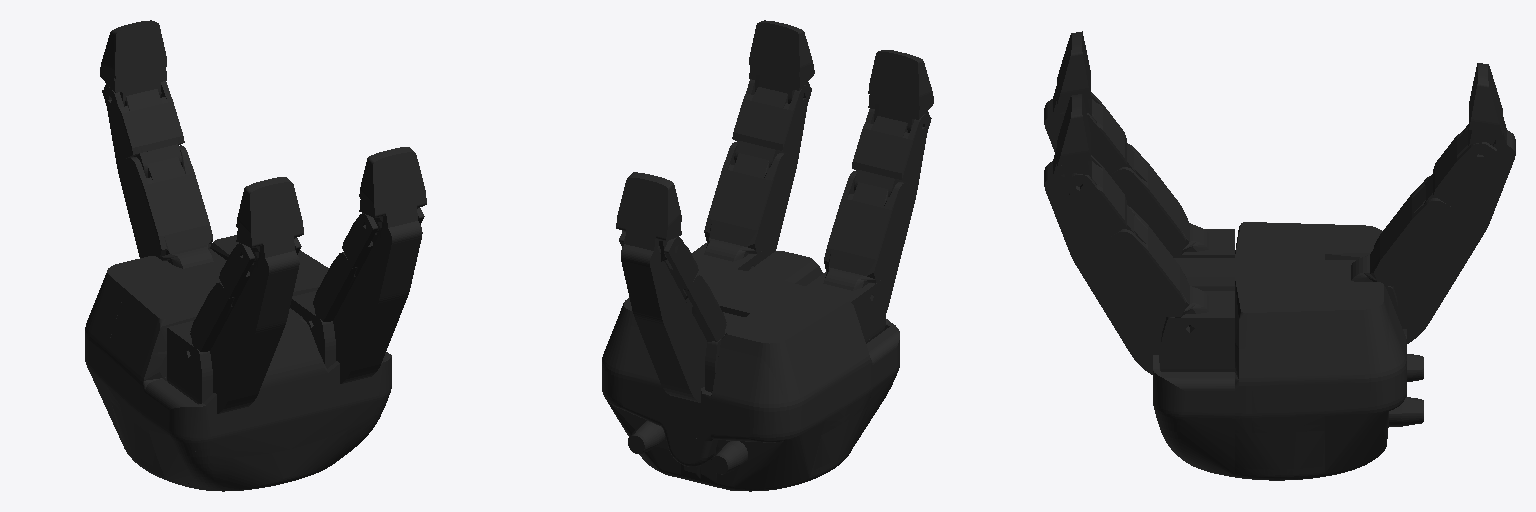
The robot description file, URDF, robot "victor":
<?xml version="1.0" ?>
<!-- =================================================================================== -->
<!-- |    This document was autogenerated by xacro from [local-path]/grasping_ws/src/robotiq_3finger_description/urdf/robotiq_3finger_description.urdf.xacro | -->
<!-- |    EDITING THIS FILE BY HAND IS NOT RECOMMENDED                                 | -->
<!-- =================================================================================== -->
<robot name="victor" xmlns:xacro="http://www.ros.org/wiki/xacro">
  <material name="Black">
    <color rgba="0.0 0.0 0.0 1.0"/>
  </material>
  <material name="Blue">
    <color rgba="0.0 0.0 0.8 1.0"/>
  </material>
  <material name="Green">
    <color rgba="0.0 0.8 0.0 1.0"/>
  </material>
  <material name="Grey">
    <color rgba="0.4 0.4 0.4 1.0"/>
  </material>
  <material name="Orange">
    <color rgba="1.0 0.423529411765 0.0392156862745 1.0"/>
  </material>
  <material name="Brown">
    <color rgba="0.870588235294 0.811764705882 0.764705882353 1.0"/>
  </material>
  <material name="Red">
    <color rgba="0.8 0.0 0.0 1.0"/>
  </material>
  <material name="White">
    <color rgba="1.0 1.0 1.0 1.0"/>
  </material>
  <material name="LightGrey">
    <color rgba="0.7 0.7 0.7 1"/>
  </material>
  <material name="DarkGray">
    <color rgba="0.2 0.2 0.2 1"/>
  </material>
  <material name="DarkDarkGray">
    <color rgba="0.1 0.1 0.1 1"/>
  </material>

  <link name="world"/>
  <joint name="world_to_palm" type="fixed">
    <origin rpy="0 0 1.5707963267948966" xyz="0 0 -0.09"/>
    <parent link="world"/>
    <child link="gripper_palm"/>
  </joint>
  <link name="gripper_palm">
    <inertial>
      <origin rpy="0 0 0" xyz="0 0 0"/>
      <mass value="1"/>
      <inertia ixx="0.01" ixy="0" ixz="0" iyy="0.01" iyz="0" izz="0.01"/>
    </inertial>
    <visual>
      <origin rpy="0 0 0" xyz="0 0 0"/>
      <geometry>
        <mesh filename="../meshes/robotiq_3finger/palm_visual.obj"/>
      </geometry>
      <material name="DarkGray"/>
    </visual>
    <collision>
      <origin rpy="0 0 0" xyz="0 0 0"/>
      <geometry>
        <mesh filename="../meshes/robotiq_3finger/palm_collision.obj"/>
      </geometry>
      <material name="DarkGray"/>
    </collision>
  </link>
  <!-- Palm surface aligned with the gripper axis -->
  <joint name="gripper_palm_surface_joint" type="fixed">
    <parent link="gripper_palm"/>
    <child link="gripper_palm_surface"/>
    <origin rpy="0 0 0" xyz="0 0 0.092075"/>
  </joint>
  <link name="gripper_palm_surface">
        </link>
  <!-- Kuka internal frame has been changed to match our external usage, so identity transform -->
  <joint name="gripper_palm_surface_kuka_joint" type="fixed">
    <parent link="gripper_palm_surface"/>
    <child link="gripper_palm_surface_kuka"/>
    <origin rpy="0 0 0" xyz="0 0 0"/>
  </joint>
  <link name="gripper_palm_surface_kuka">
        </link>
  <!-- Finger A -->
  <joint name="gripper_fingerA_knuckle" type="fixed">
    <origin rpy="0 0 0" xyz="0.02225040 0 0.06111875"/>
    <parent link="gripper_palm"/>
    <child link="gripper_fingerA_base"/>
  </joint>
  <link name="gripper_fingerA_base">
    <inertial>
      <origin rpy="0 0 0" xyz="0 0 0"/>
      <mass value="1"/>
      <inertia ixx="0.01" ixy="0" ixz="0" iyy="0.01" iyz="0" izz="0.01"/>
    </inertial>
    <visual>
      <origin rpy="0 0 0" xyz="0 0 0"/>
      <geometry>
        <mesh filename="../meshes/robotiq_3finger/finger_link1_base_visual.obj"/>
      </geometry>
      <material name="DarkGray"/>
    </visual>
    <collision>
      <origin rpy="0 0 0" xyz="0 0 0"/>
      <geometry>
        <mesh filename="../meshes/robotiq_3finger/finger_link1_base_visual.obj"/>
      </geometry>
      <material name="DarkGray"/>
    </collision>
  </link>
  <!-- Joint 2 (base-prox) -->
  <joint name="gripper_fingerA_joint_2" type="revolute">
    <parent link="gripper_fingerA_base"/>
    <child link="gripper_fingerA_prox"/>
    <origin rpy="0 0.610865238198 0" xyz="0.02225000 0 0.02151380"/>
    <axis xyz="0 1 0"/>
    <limit effort="300" lower="0" upper="1.2217304763960307" velocity="10"/>
    <safety_controller k_position="100" k_velocity="100" soft_lower_limit="-0.610865238198" soft_upper_limit="0.610865238198"/>
    <dynamics damping="0.5"/>
  </joint>
  <link name="gripper_fingerA_prox">
    <inertial>
      <origin rpy="0 0 0" xyz="0 0 0"/>
      <mass value="1"/>
      <inertia ixx="0.01" ixy="0" ixz="0" iyy="0.01" iyz="0" izz="0.01"/>
    </inertial>
    <visual>
      <origin rpy="0 0 0" xyz="0 0 0"/>
      <geometry>
        <mesh filename="../meshes/robotiq_3finger/finger_link2_prox_visual.obj"/>
      </geometry>
      <material name="DarkGray"/>
    </visual>
    <collision>
      <origin rpy="0 0 0" xyz="0 0 0"/>
      <geometry>
        <mesh filename="../meshes/robotiq_3finger/finger_link2_prox_collision.obj"/>
      </geometry>
      <material name="DarkGray"/>
    </collision>
  </link>
  <!-- Joint 3 (prox-med) -->
  <joint name="gripper_fingerA_joint_3" type="revolute">
    <parent link="gripper_fingerA_prox"/>
    <child link="gripper_fingerA_med"/>
    <origin rpy="0 0 0" xyz="0 0 0.05715000"/>
    <axis xyz="0 1 0"/>
    <limit effort="300" lower="-1" upper="1" velocity="10"/>
    <safety_controller k_position="100" k_velocity="100" soft_lower_limit="0.0" soft_upper_limit="1.57079632679"/>
    <dynamics damping="0.5"/>
  </joint>
  <link name="gripper_fingerA_med">
    <inertial>
      <origin rpy="0 0 0" xyz="0 0 0"/>
      <mass value="1"/>
      <inertia ixx="0.01" ixy="0" ixz="0" iyy="0.01" iyz="0" izz="0.01"/>
    </inertial>
    <visual>
      <origin rpy="0 0 0" xyz="0 0 0"/>
      <geometry>
        <mesh filename="../meshes/robotiq_3finger/finger_link3_med_visual.obj"/>
      </geometry>
      <material name="DarkGray"/>
    </visual>
    <collision>
      <origin rpy="0 0 0" xyz="0 0 0"/>
      <geometry>
        <mesh filename="../meshes/robotiq_3finger/finger_link3_med_collision.obj"/>
      </geometry>
      <material name="DarkGray"/>
    </collision>
  </link>
  <!-- Joint 4 (med-dist) -->
  <joint name="gripper_fingerA_joint_4" type="revolute">
    <parent link="gripper_fingerA_med"/>
    <child link="gripper_fingerA_dist"/>
    <origin rpy="0 -0.436332312999 0" xyz="0 0 0.03810000"/>
    <axis xyz="0 1 0"/>
    <limit effort="300" lower="-1" upper="1" velocity="10"/>
    <safety_controller k_position="100" k_velocity="100" soft_lower_limit="-0.436332312999" soft_upper_limit="1.27409035396"/>
    <dynamics damping="0.5"/>
  </joint>
  <link name="gripper_fingerA_dist">
    <inertial>
      <origin rpy="0 0 0" xyz="0 0 0"/>
      <mass value="1"/>
      <inertia ixx="0.01" ixy="0" ixz="0" iyy="0.01" iyz="0" izz="0.01"/>
    </inertial>
    <visual>
      <origin rpy="0 0 0" xyz="0 0 0"/>
      <!-- <origin rpy="0 0 0" xyz="0.007 0.0 0.024"/> -->
      <geometry>
        <mesh filename="../meshes/robotiq_3finger/finger_link4_dist_visual.obj"/>
        <!-- <sphere radius="0.015"/> -->
      </geometry>
      <material name="DarkGray"/>
    </visual>
    <collision>
      <origin rpy="0 0 0" xyz="0 0 0"/>
      <!-- <origin rpy="0 0 0" xyz="0.007 0.0 0.024"/> -->
      <geometry>
        <mesh filename="../meshes/robotiq_3finger/finger_link4_dist_collision.obj"/>
        <!-- <sphere radius="0.015"/> -->
      </geometry>
      <material name="DarkGray"/>
    </collision>
  </link>

  <link name="fingerA_tip"/>
  <joint name="fingerA_dist_to_tip" type="fixed">
    <origin rpy="0 0 0" xyz="-0.0037 0.0 0.038"/>
    <parent link="gripper_fingerA_dist"/>
    <child link="fingerA_tip"/>
  </joint>
  
  <!-- Finger B -->
  <joint name="gripper_fingerB_knuckle" type="revolute">
    <origin rpy="0 0 3.14159265359" xyz="-0.02230120 0.03651250 0.06111875"/>
    <parent link="gripper_palm"/>
    <child link="gripper_fingerB_base"/>
    <axis xyz="1 0 0"/>
    <limit effort="300" lower="-0.279252680319" upper="0.174532925199" velocity="10"/>
    <safety_controller k_position="100" k_velocity="100" soft_lower_limit="-0.244346095279" soft_upper_limit="0.13962634016"/>
    <dynamics damping="0.5"/>
  </joint>
  <link name="gripper_fingerB_base">
    <inertial>
      <origin rpy="0 0 0" xyz="0 0 0"/>
      <mass value="1"/>
      <inertia ixx="0.01" ixy="0" ixz="0" iyy="0.01" iyz="0" izz="0.01"/>
    </inertial>
    <visual>
      <origin rpy="0 0 0" xyz="0 0 0"/>
      <geometry>
        <mesh filename="../meshes/robotiq_3finger/finger_link1_base_visual.obj"/>
      </geometry>
      <material name="DarkGray"/>
    </visual>
    <collision>
      <origin rpy="0 0 0" xyz="0 0 0"/>
      <geometry>
        <mesh filename="../meshes/robotiq_3finger/finger_link1_base_visual.obj"/>
      </geometry>
      <material name="DarkGray"/>
    </collision>
  </link>
  <!-- Joint 2 (base-prox) -->
  <joint name="gripper_fingerB_joint_2" type="revolute">
    <parent link="gripper_fingerB_base"/>
    <child link="gripper_fingerB_prox"/>
    <origin rpy="0 0.610865238198 0" xyz="0.02225000 0 0.02151380"/>
    <axis xyz="0 1 0"/>
    <limit effort="300" lower="0" upper="1.2217304763960307" velocity="10"/>
    <safety_controller k_position="100" k_velocity="100" soft_lower_limit="-0.610865238198" soft_upper_limit="0.610865238198"/>
    <dynamics damping="0.5"/>
  </joint>
  <link name="gripper_fingerB_prox">
    <inertial>
      <origin rpy="0 0 0" xyz="0 0 0"/>
      <mass value="1"/>
      <inertia ixx="0.01" ixy="0" ixz="0" iyy="0.01" iyz="0" izz="0.01"/>
    </inertial>
    <visual>
      <origin rpy="0 0 0" xyz="0 0 0"/>
      <geometry>
        <mesh filename="../meshes/robotiq_3finger/finger_link2_prox_visual.obj"/>
      </geometry>
      <material name="DarkGray"/>
    </visual>
    <collision>
      <origin rpy="0 0 0" xyz="0 0 0"/>
      <geometry>
        <mesh filename="../meshes/robotiq_3finger/finger_link2_prox_collision.obj"/>
      </geometry>
      <material name="DarkGray"/>
    </collision>
  </link>
  <!-- Joint 3 (prox-med) -->
  <joint name="gripper_fingerB_joint_3" type="revolute">
    <parent link="gripper_fingerB_prox"/>
    <child link="gripper_fingerB_med"/>
    <origin rpy="0 0 0" xyz="0 0 0.05715000"/>
    <axis xyz="0 1 0"/>
    <limit effort="300" lower="-1" upper="1" velocity="10"/>
    <safety_controller k_position="100" k_velocity="100" soft_lower_limit="0.0" soft_upper_limit="1.57079632679"/>
    <dynamics damping="0.5"/>
  </joint>
  <link name="gripper_fingerB_med">
    <inertial>
      <origin rpy="0 0 0" xyz="0 0 0"/>
      <mass value="1"/>
      <inertia ixx="0.01" ixy="0" ixz="0" iyy="0.01" iyz="0" izz="0.01"/>
    </inertial>
    <visual>
      <origin rpy="0 0 0" xyz="0 0 0"/>
      <geometry>
        <mesh filename="../meshes/robotiq_3finger/finger_link3_med_visual.obj"/>
      </geometry>
      <material name="DarkGray"/>
    </visual>
    <collision>
      <origin rpy="0 0 0" xyz="0 0 0"/>
      <geometry>
        <mesh filename="../meshes/robotiq_3finger/finger_link3_med_collision.obj"/>
      </geometry>
      <material name="DarkGray"/>
    </collision>
  </link>
  <!-- Joint 4 (med-dist) -->
  <joint name="gripper_fingerB_joint_4" type="revolute">
    <parent link="gripper_fingerB_med"/>
    <child link="gripper_fingerB_dist"/>
    <origin rpy="0 -0.436332312999 0" xyz="0 0 0.03810000"/>
    <axis xyz="0 1 0"/>
    <limit effort="300" lower="-1" upper="1" velocity="10"/>
    <safety_controller k_position="100" k_velocity="100" soft_lower_limit="-0.436332312999" soft_upper_limit="1.27409035396"/>
    <dynamics damping="0.5"/>
  </joint>
  <link name="gripper_fingerB_dist">
    <inertial>
      <origin rpy="0 0 0" xyz="0 0 0"/>
      <mass value="1"/>
      <inertia ixx="0.01" ixy="0" ixz="0" iyy="0.01" iyz="0" izz="0.01"/>
    </inertial>
    <visual>
      <origin rpy="0 0 0" xyz="0 0 0"/>
      <!-- <origin rpy="0 0 0" xyz="0.007 0.0 0.024"/> -->
      <geometry>
        <mesh filename="../meshes/robotiq_3finger/finger_link4_dist_visual.obj"/>
        <!-- <sphere radius="0.015"/> -->
      </geometry>
      <material name="DarkGray"/>
    </visual>
    <collision>
      <origin rpy="0 0 0" xyz="0 0 0"/>
      <!-- <origin rpy="0 0 0" xyz="0.007 0.0 0.024"/> -->
      <geometry>
        <mesh filename="../meshes/robotiq_3finger/finger_link4_dist_collision.obj"/>
        <!-- <sphere radius="0.015"/> -->
      </geometry>
      <material name="DarkGray"/>
    </collision>
  </link>
  <link name="fingerB_tip"/>
  <joint name="fingerB_dist_to_tip" type="fixed">
    <origin rpy="0 0 0" xyz="-0.0037 0.0 0.038"/>
    <parent link="gripper_fingerB_dist"/>
    <child link="fingerB_tip"/>
  </joint>
  <!-- Finger C -->
  <joint name="gripper_fingerC_knuckle" type="revolute">
    <origin rpy="0 0 3.14159265359" xyz="-0.02230120 -0.03651250 0.06111875"/>
    <parent link="gripper_palm"/>
    <child link="gripper_fingerC_base"/>
    <axis xyz="-1 0 0"/>
    <limit effort="300" lower="-0.279252680319" upper="0.174532925199" velocity="10"/>
    <safety_controller k_position="100" k_velocity="100" soft_lower_limit="-0.244346095279" soft_upper_limit="0.13962634016"/>
    <dynamics damping="0.5"/>
  </joint>
  <link name="gripper_fingerC_base">
    <inertial>
      <origin rpy="0 0 0" xyz="0 0 0"/>
      <mass value="1"/>
      <inertia ixx="0.01" ixy="0" ixz="0" iyy="0.01" iyz="0" izz="0.01"/>
    </inertial>
    <visual>
      <origin rpy="0 0 0" xyz="0 0 0"/>
      <geometry>
        <mesh filename="../meshes/robotiq_3finger/finger_link1_base_visual.obj"/>
      </geometry>
      <material name="DarkGray"/>
    </visual>
    <collision>
      <origin rpy="0 0 0" xyz="0 0 0"/>
      <geometry>
        <mesh filename="../meshes/robotiq_3finger/finger_link1_base_visual.obj"/>
      </geometry>
      <material name="DarkGray"/>
    </collision>
  </link>
  <!-- Joint 2 (base-prox) -->
  <joint name="gripper_fingerC_joint_2" type="revolute">
    <parent link="gripper_fingerC_base"/>
    <child link="gripper_fingerC_prox"/>
    <origin rpy="0 0.610865238198 0" xyz="0.02225000 0 0.02151380"/>
    <axis xyz="0 1 0"/>
    <limit effort="300" lower="0" upper="1.2217304763960307" velocity="10"/>
    <safety_controller k_position="100" k_velocity="100" soft_lower_limit="-0.610865238198" soft_upper_limit="0.610865238198"/>
    <dynamics damping="0.5"/>
  </joint>
  <link name="gripper_fingerC_prox">
    <inertial>
      <origin rpy="0 0 0" xyz="0 0 0"/>
      <mass value="1"/>
      <inertia ixx="0.01" ixy="0" ixz="0" iyy="0.01" iyz="0" izz="0.01"/>
    </inertial>
    <visual>
      <origin rpy="0 0 0" xyz="0 0 0"/>
      <geometry>
        <mesh filename="../meshes/robotiq_3finger/finger_link2_prox_visual.obj"/>
      </geometry>
      <material name="DarkGray"/>
    </visual>
    <collision>
      <origin rpy="0 0 0" xyz="0 0 0"/>
      <geometry>
        <mesh filename="../meshes/robotiq_3finger/finger_link2_prox_collision.obj"/>
      </geometry>
      <material name="DarkGray"/>
    </collision>
  </link>
  <!-- Joint 3 (prox-med) -->
  <joint name="gripper_fingerC_joint_3" type="revolute">
    <parent link="gripper_fingerC_prox"/>
    <child link="gripper_fingerC_med"/>
    <origin rpy="0 0 0" xyz="0 0 0.05715000"/>
    <axis xyz="0 1 0"/>
    <limit effort="300" lower="-1" upper="1" velocity="10"/>
    <safety_controller k_position="100" k_velocity="100" soft_lower_limit="0.0" soft_upper_limit="1.57079632679"/>
    <dynamics damping="0.5"/>
  </joint>
  <link name="gripper_fingerC_med">
    <inertial>
      <origin rpy="0 0 0" xyz="0 0 0"/>
      <mass value="1"/>
      <inertia ixx="0.01" ixy="0" ixz="0" iyy="0.01" iyz="0" izz="0.01"/>
    </inertial>
    <visual>
      <origin rpy="0 0 0" xyz="0 0 0"/>
      <geometry>
        <mesh filename="../meshes/robotiq_3finger/finger_link3_med_visual.obj"/>
      </geometry>
      <material name="DarkGray"/>
    </visual>
    <collision>
      <origin rpy="0 0 0" xyz="0 0 0"/>
      <geometry>
        <mesh filename="../meshes/robotiq_3finger/finger_link3_med_collision.obj"/>
      </geometry>
      <material name="DarkGray"/>
    </collision>
  </link>
  <!-- Joint 4 (med-dist) -->
  <joint name="gripper_fingerC_joint_4" type="revolute">
    <parent link="gripper_fingerC_med"/>
    <child link="gripper_fingerC_dist"/>
    <origin rpy="0 -0.436332312999 0" xyz="0 0 0.03810000"/>
    <axis xyz="0 1 0"/>
    <limit effort="300" lower="-1" upper="1" velocity="10"/>
    <safety_controller k_position="100" k_velocity="100" soft_lower_limit="-0.436332312999" soft_upper_limit="1.27409035396"/>
    <dynamics damping="0.5"/>
  </joint>
  <link name="gripper_fingerC_dist">
    <inertial>
      <origin rpy="0 0 0" xyz="0 0 0"/>
      <mass value="1"/>
      <inertia ixx="0.01" ixy="0" ixz="0" iyy="0.01" iyz="0" izz="0.01"/>
    </inertial>
    <visual>
      <origin rpy="0 0 0" xyz="0 0 0"/>
      <!-- <origin rpy="0 0 0" xyz="0.007 0.0 0.024"/> -->
      <geometry>
        <mesh filename="../meshes/robotiq_3finger/finger_link4_dist_visual.obj"/>
        <!-- <sphere radius="0.015"/> -->
      </geometry>
      <material name="DarkGray"/>
    </visual>
    <collision>
      <origin rpy="0 0 0" xyz="0 0 0"/>
      <!-- <origin rpy="0 0 0" xyz="0.007 0.0 0.024"/> -->
      <geometry>
        <mesh filename="../meshes/robotiq_3finger/finger_link4_dist_collision.obj"/>
        <!-- <sphere radius="0.015"/> -->
      </geometry>
      <material name="DarkGray"/>
    </collision>
  </link>
  <link name="fingerC_tip"/>
  <joint name="fingerC_dist_to_tip" type="fixed">
    <origin rpy="0 0 0" xyz="-0.0037 0.0 0.038"/>
    <parent link="gripper_fingerC_dist"/>
    <child link="fingerC_tip"/>
  </joint>
  <transmission name="gripper_tran_A2">
    <type>transmission_interface/SimpleTransmission</type>
    <joint name="gripper_fingerA_joint_2">
      <hardwareInterface>hardware_interface/EffortJointInterface</hardwareInterface>
    </joint>
    <actuator name="gripper_motor_A2">
      <mechanicalReduction>1</mechanicalReduction>
    </actuator>
  </transmission>
  <transmission name="gripper_tran_A3">
    <type>transmission_interface/SimpleTransmission</type>
    <joint name="gripper_fingerA_joint_3">
      <hardwareInterface>hardware_interface/EffortJointInterface</hardwareInterface>
    </joint>
    <actuator name="gripper_motor_A3">
      <mechanicalReduction>1</mechanicalReduction>
    </actuator>
  </transmission>
  <transmission name="gripper_tran_A4">
    <type>transmission_interface/SimpleTransmission</type>
    <joint name="gripper_fingerA_joint_4">
      <hardwareInterface>hardware_interface/EffortJointInterface</hardwareInterface>
    </joint>
    <actuator name="gripper_motor_A4">
      <mechanicalReduction>1</mechanicalReduction>
    </actuator>
  </transmission>
  <transmission name="gripper_tran_B2">
    <type>transmission_interface/SimpleTransmission</type>
    <joint name="gripper_fingerB_joint_2">
      <hardwareInterface>hardware_interface/EffortJointInterface</hardwareInterface>
    </joint>
    <actuator name="gripper_motor_B2">
      <mechanicalReduction>1</mechanicalReduction>
    </actuator>
  </transmission>
  <transmission name="gripper_tran_B3">
    <type>transmission_interface/SimpleTransmission</type>
    <joint name="gripper_fingerB_joint_3">
      <hardwareInterface>hardware_interface/EffortJointInterface</hardwareInterface>
    </joint>
    <actuator name="gripper_motor_B3">
      <mechanicalReduction>1</mechanicalReduction>
    </actuator>
  </transmission>
  <transmission name="gripper_tran_B4">
    <type>transmission_interface/SimpleTransmission</type>
    <joint name="gripper_fingerB_joint_4">
      <hardwareInterface>hardware_interface/EffortJointInterface</hardwareInterface>
    </joint>
    <actuator name="gripper_motor_B4">
      <mechanicalReduction>1</mechanicalReduction>
    </actuator>
  </transmission>
  <transmission name="gripper_tran_C2">
    <type>transmission_interface/SimpleTransmission</type>
    <joint name="gripper_fingerC_joint_2">
      <hardwareInterface>hardware_interface/EffortJointInterface</hardwareInterface>
    </joint>
    <actuator name="gripper_motor_C2">
      <mechanicalReduction>1</mechanicalReduction>
    </actuator>
  </transmission>
  <transmission name="gripper_tran_C3">
    <type>transmission_interface/SimpleTransmission</type>
    <joint name="gripper_fingerC_joint_3">
      <hardwareInterface>hardware_interface/EffortJointInterface</hardwareInterface>
    </joint>
    <actuator name="gripper_motor_C3">
      <mechanicalReduction>1</mechanicalReduction>
    </actuator>
  </transmission>
  <transmission name="gripper_tran_C4">
    <type>transmission_interface/SimpleTransmission</type>
    <joint name="gripper_fingerC_joint_4">
      <hardwareInterface>hardware_interface/EffortJointInterface</hardwareInterface>
    </joint>
    <actuator name="gripper_motor_C4">
      <mechanicalReduction>1</mechanicalReduction>
    </actuator>
  </transmission>
  <transmission name="gripper_tran_Bknuckle">
    <type>transmission_interface/SimpleTransmission</type>
    <joint name="gripper_fingerB_knuckle">
      <hardwareInterface>hardware_interface/EffortJointInterface</hardwareInterface>
    </joint>
    <actuator name="gripper_motor_Bknuckle">
      <mechanicalReduction>1</mechanicalReduction>
    </actuator>
  </transmission>
  <transmission name="gripper_tran_Cknuckle">
    <type>transmission_interface/SimpleTransmission</type>
    <joint name="gripper_fingerC_knuckle">
      <hardwareInterface>hardware_interface/EffortJointInterface</hardwareInterface>
    </joint>
    <actuator name="gripper_motor_Cknuckle">
      <mechanicalReduction>1</mechanicalReduction>
    </actuator>
  </transmission>
</robot>

--- What the picture shows (computed from the rendered views, not written in the file) ---
The picture shows the robot from 3 angles, left to right: view 1: azimuth 30°, elevation 25°; view 2: azimuth 150°, elevation 25°; view 3: azimuth 270°, elevation 25°; orthographic projection.
Robot: victor — 19 links, 18 joints (11 revolute, 7 fixed); root link world; default pose: every joint at zero.
Links seen in each view (by area): view 1: gripper_palm, gripper_fingerA_prox, gripper_fingerB_prox, gripper_fingerC_prox, gripper_fingerC_dist, gripper_fingerB_dist, gripper_fingerA_med, gripper_fingerA_dist, gripper_fingerB_med, gripper_fingerC_med, gripper_fingerB_base, gripper_fingerC_base; view 2: gripper_palm, gripper_fingerB_prox, gripper_fingerC_prox, gripper_fingerA_prox, gripper_fingerA_dist, gripper_fingerB_med, gripper_fingerC_med, gripper_fingerC_dist, gripper_fingerB_dist, gripper_fingerA_med, gripper_fingerB_base, gripper_fingerA_base (+1 smaller); view 3: gripper_palm, gripper_fingerC_prox, gripper_fingerA_prox, gripper_fingerC_base, gripper_fingerB_prox, gripper_fingerC_med, gripper_fingerA_med, gripper_fingerA_dist, gripper_fingerC_dist, gripper_fingerB_dist, gripper_fingerB_med, gripper_fingerB_base (+1 smaller).
Link boxes in pixels (x1,y1,x2,y2): gripper_palm: [85, 235, 391, 491]; gripper_fingerA_prox: [115, 139, 213, 268]; gripper_fingerB_prox: [190, 282, 286, 413]; gripper_fingerC_prox: [313, 252, 409, 383]; gripper_fingerC_dist: [359, 147, 426, 256]; gripper_fingerB_dist: [236, 177, 303, 286]; gripper_fingerA_med: [102, 81, 184, 177]; gripper_fingerA_dist: [100, 20, 166, 106]; gripper_fingerB_med: [219, 238, 301, 332]; gripper_fingerC_med: [342, 208, 424, 302]; gripper_fingerB_base: [167, 321, 212, 403]; gripper_fingerC_base: [290, 291, 335, 368]; gripper_palm: [602, 251, 899, 491]; gripper_fingerB_prox: [823, 164, 918, 312]; gripper_fingerC_prox: [704, 135, 799, 261]; gripper_fingerA_prox: [633, 275, 726, 402]; gripper_fingerA_dist: [616, 172, 681, 278]; gripper_fingerB_med: [852, 108, 931, 196]; gripper_fingerC_med: [732, 79, 811, 167]; gripper_fingerC_dist: [749, 20, 814, 103]; gripper_fingerB_dist: [868, 50, 933, 132]; gripper_fingerA_med: [619, 231, 698, 323]; gripper_fingerB_base: [806, 271, 885, 343]; gripper_fingerA_base: [705, 312, 744, 392]; gripper_palm: [1153, 222, 1423, 480]; gripper_fingerC_prox: [1067, 207, 1208, 374]; gripper_fingerA_prox: [1351, 176, 1492, 343]; gripper_fingerC_base: [1161, 291, 1234, 371]; gripper_fingerB_prox: [1110, 144, 1208, 254]; gripper_fingerC_med: [1046, 155, 1135, 249]; gripper_fingerA_med: [1424, 124, 1512, 218]; gripper_fingerA_dist: [1468, 63, 1515, 181]; gripper_fingerC_dist: [1044, 94, 1091, 212]; gripper_fingerB_dist: [1044, 31, 1091, 142]; gripper_fingerB_med: [1047, 92, 1135, 174]; gripper_fingerB_base: [1172, 229, 1234, 257].
Size in the robot's own frame: 0.1302 by 0.2331 by 0.1996 metres.
13 mesh visuals loaded from 5 distinct referenced files (5 OBJ).
